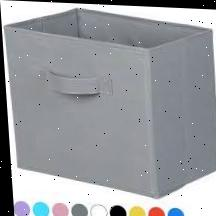cube: (4, 7, 216, 198)
